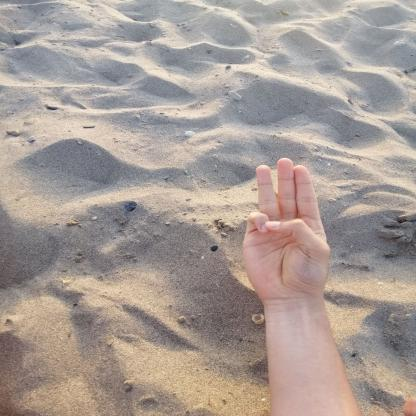THA: (228, 148, 341, 316)
